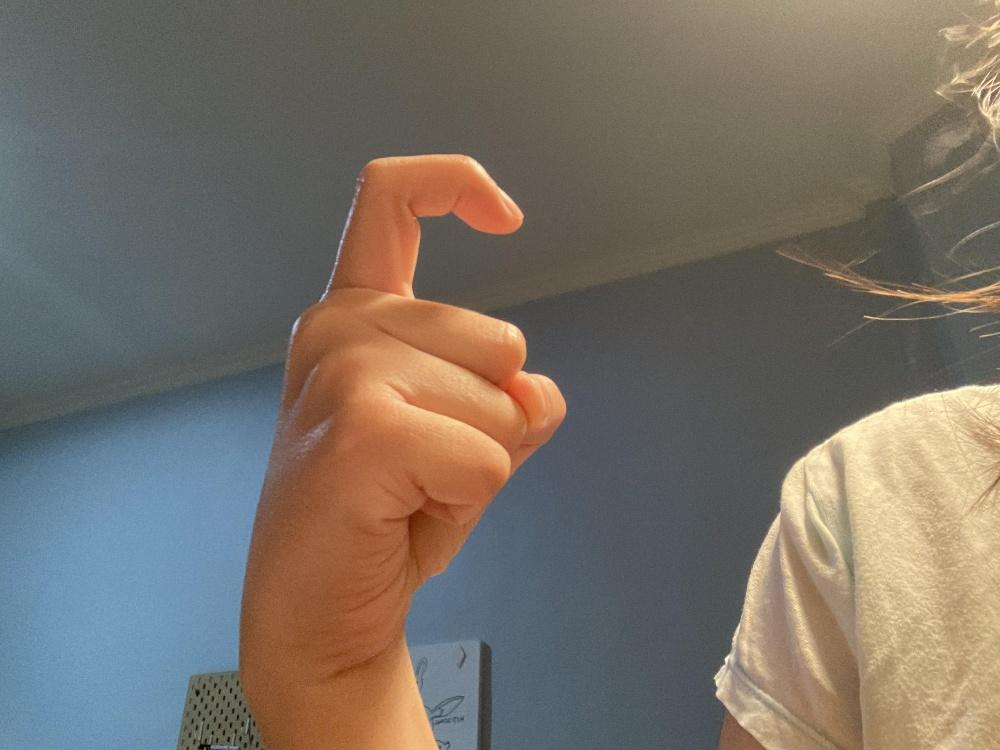x: (238, 151, 566, 676)
